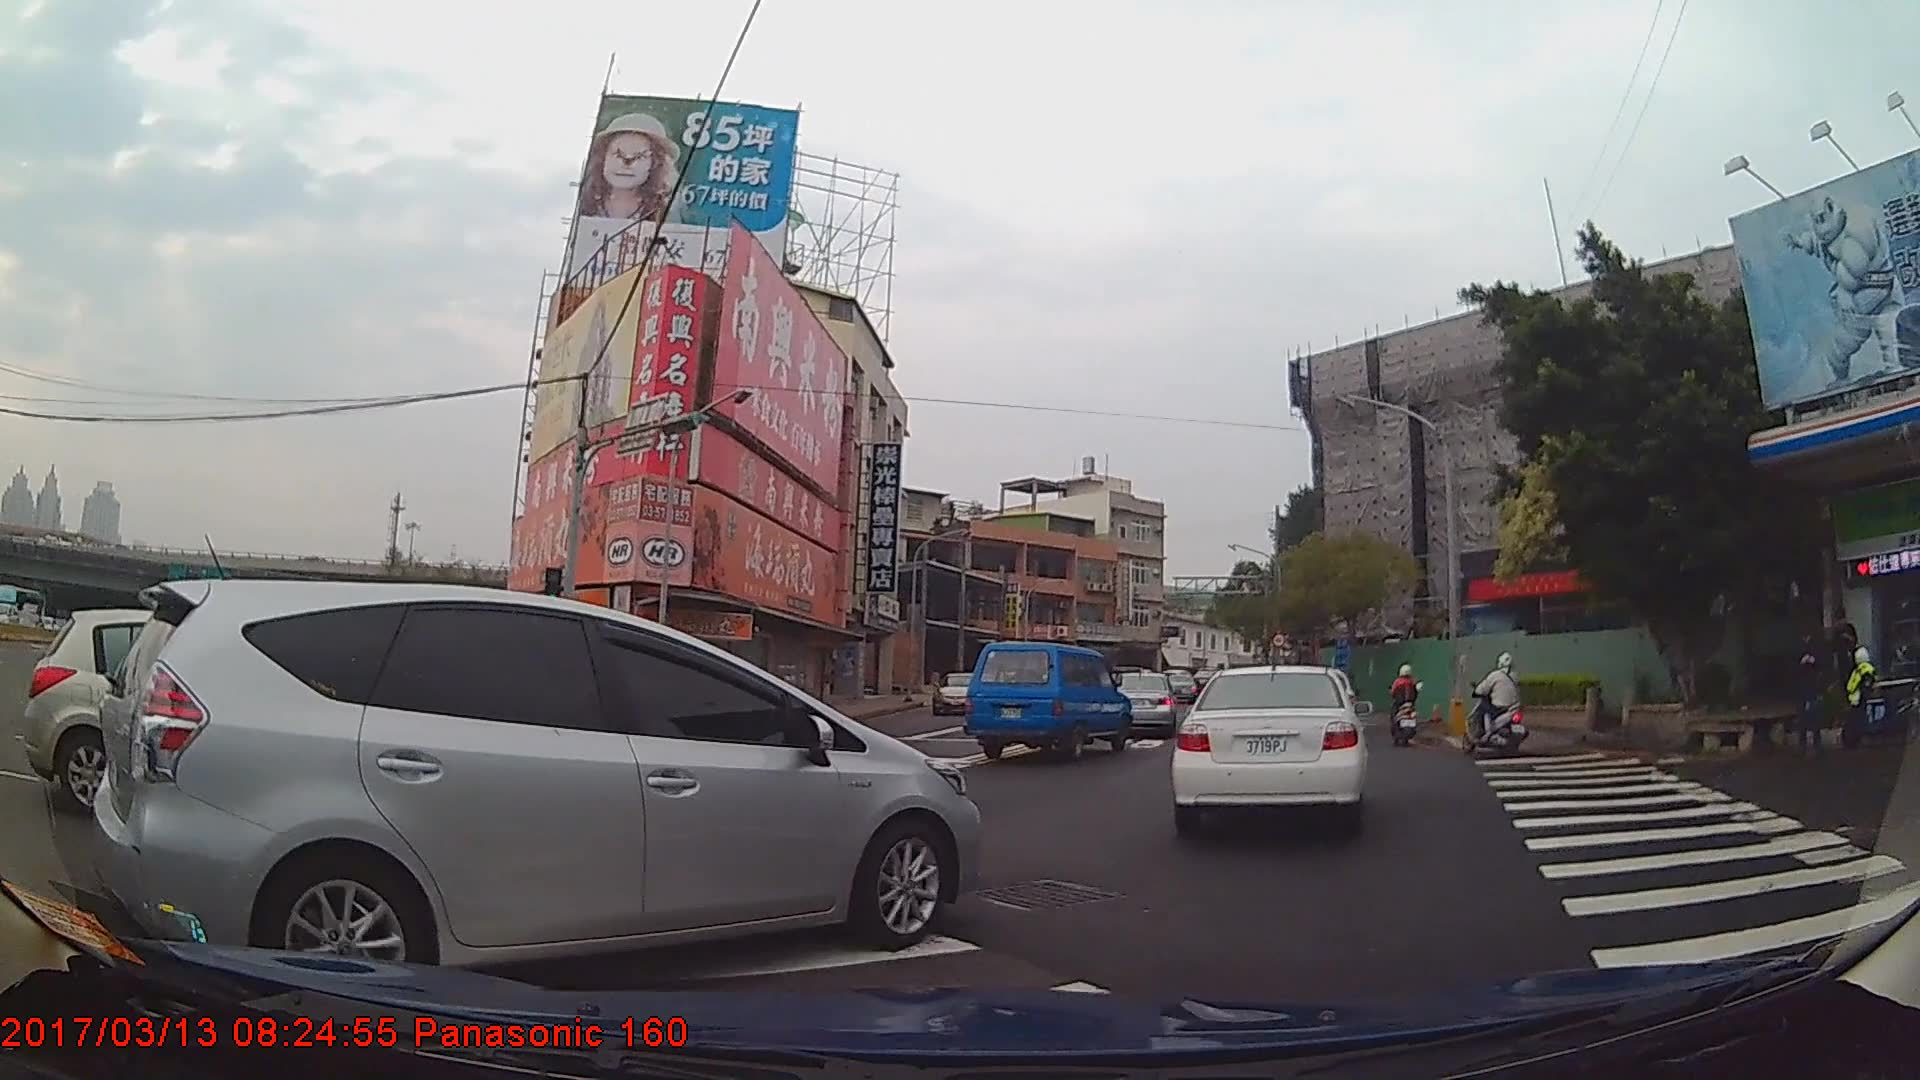pedestrian: (1787, 629, 1832, 752), (1818, 605, 1856, 713)
rider: (1465, 651, 1529, 752), (1391, 662, 1422, 745)
vehicle: (91, 578, 988, 998), (1171, 667, 1366, 843), (963, 643, 1132, 762), (1103, 667, 1178, 735), (930, 671, 987, 718)
